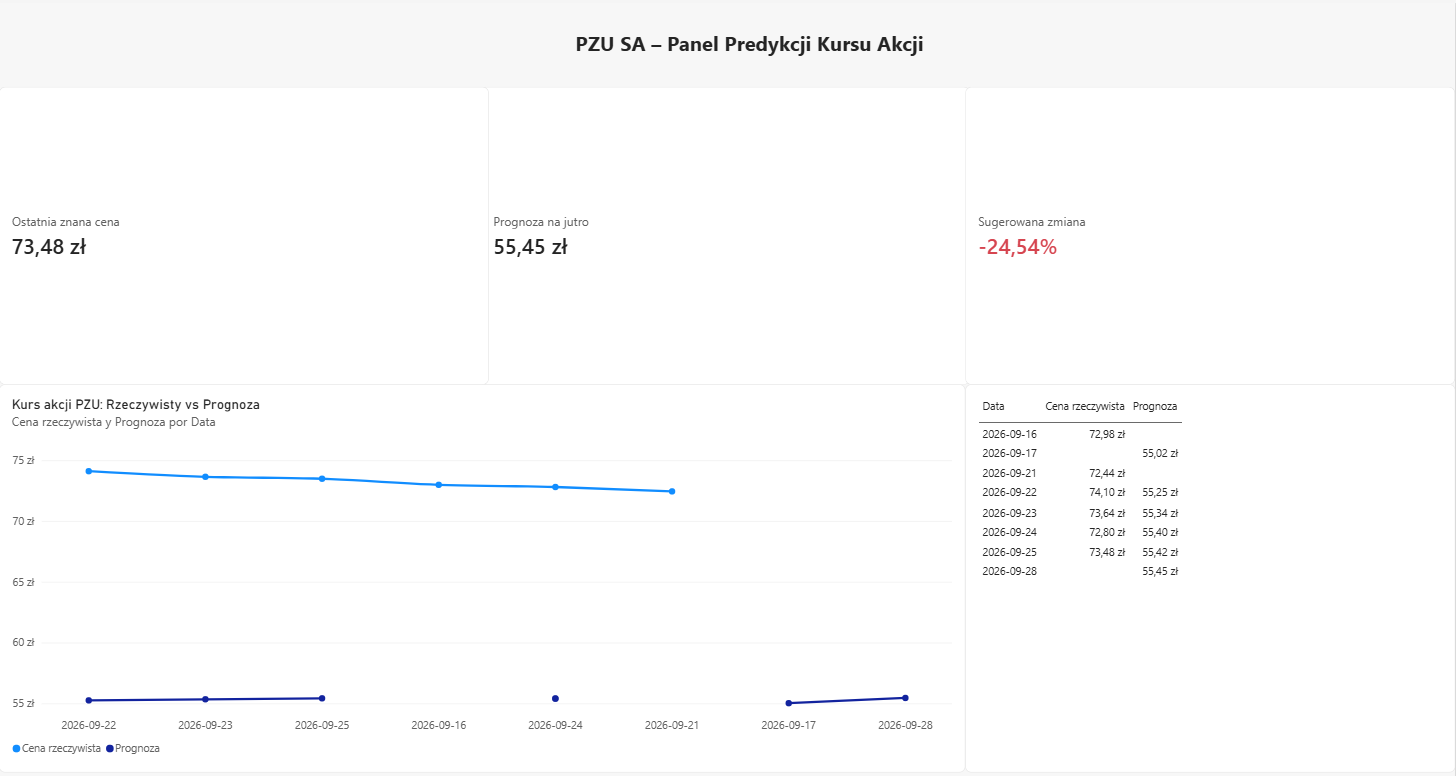

This screenshot's page, from the dashboard's own definition file:
{"tool":"powerbi","page":{"name":"Dashboard","canvas":[1920,1080],"ordinal":0},"visuals":[{"type":"lineChart","title":"Kurs akcji PZU: Rzeczywisty vs Prognoza","fields":{"Category":["predictions.Data"],"Y":["Sum(predictions.Cena_Rzeczywista)","Sum(predictions.Cena_Przewidywana)"]},"box":[29,347.5,1245,649.7],"z":0},{"type":"cardVisual","fields":{"Data":["predictions.PrognozaNaJutro"]},"box":[658.7,110.4,615.3,213.5],"z":1000},{"type":"cardVisual","fields":{"Data":["predictions.OstatniaCena"]},"box":[29,110.4,615.3,213.5],"z":2000},{"type":"cardVisual","fields":{"Data":["predictions.SugerowanaZmiana"]},"box":[1303,130.3,580.9,342],"z":3000},{"type":"tableEx","fields":{"Values":["predictions.Data","Sum(predictions.Cena_Rzeczywista)","Sum(predictions.Cena_Przewidywana)"]},"box":[1303,504.9,591.8,427.1],"z":4000},{"type":"textbox","box":[760.1,34.4,542.9,76],"z":5000}]}

Visuals, with their boxes in screenshot pixels (x1, y1, x2, y2):
"Kurs akcji PZU: Rzeczywisty vs Prognoza" lineChart: (left=82, top=218, right=998, bottom=696)
cardVisual - predictions.PrognozaNaJutro: (left=545, top=43, right=998, bottom=200)
cardVisual - predictions.OstatniaCena: (left=82, top=43, right=535, bottom=200)
cardVisual - predictions.SugerowanaZmiana: (left=1019, top=58, right=1447, bottom=310)
tableEx - predictions.Data x Sum(predictions.Cena_Rzeczywista): (left=1019, top=334, right=1455, bottom=648)
textbox: (left=620, top=0, right=1019, bottom=43)
